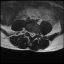CCS_normal: (30, 30, 32, 39)
LFS_normal: (34, 30, 36, 37)
LLS_normal: (32, 30, 34, 38)
RFS_stenosis: (27, 29, 28, 35)
RLS_normal: (28, 30, 30, 37)
